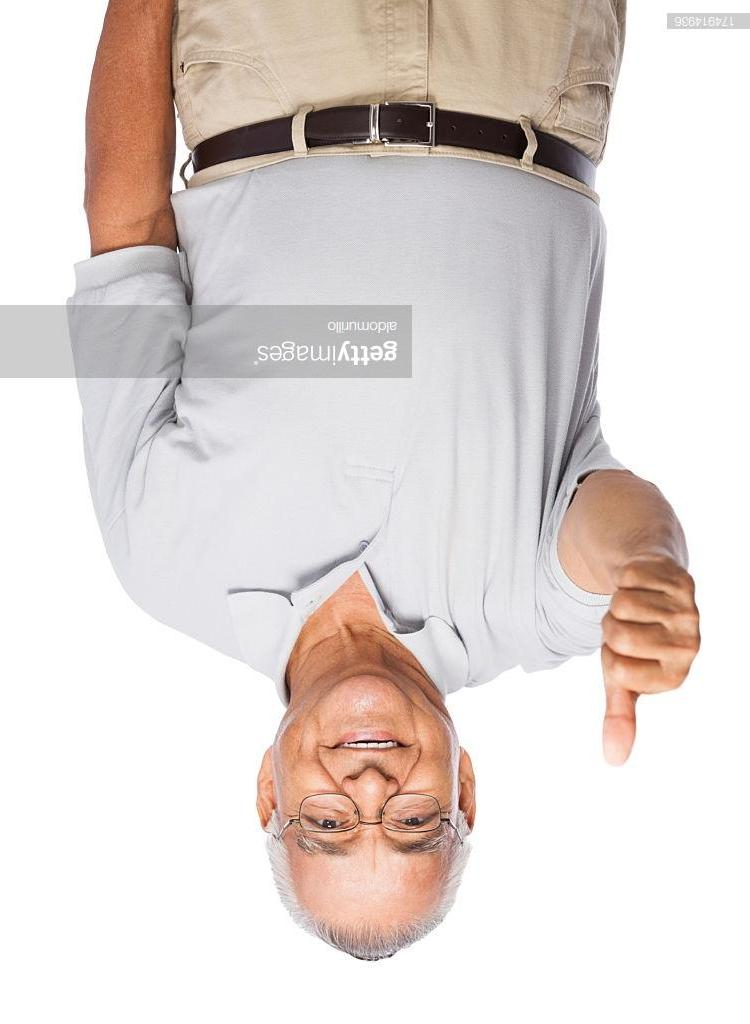thumbsdown: (599, 559, 703, 769)
